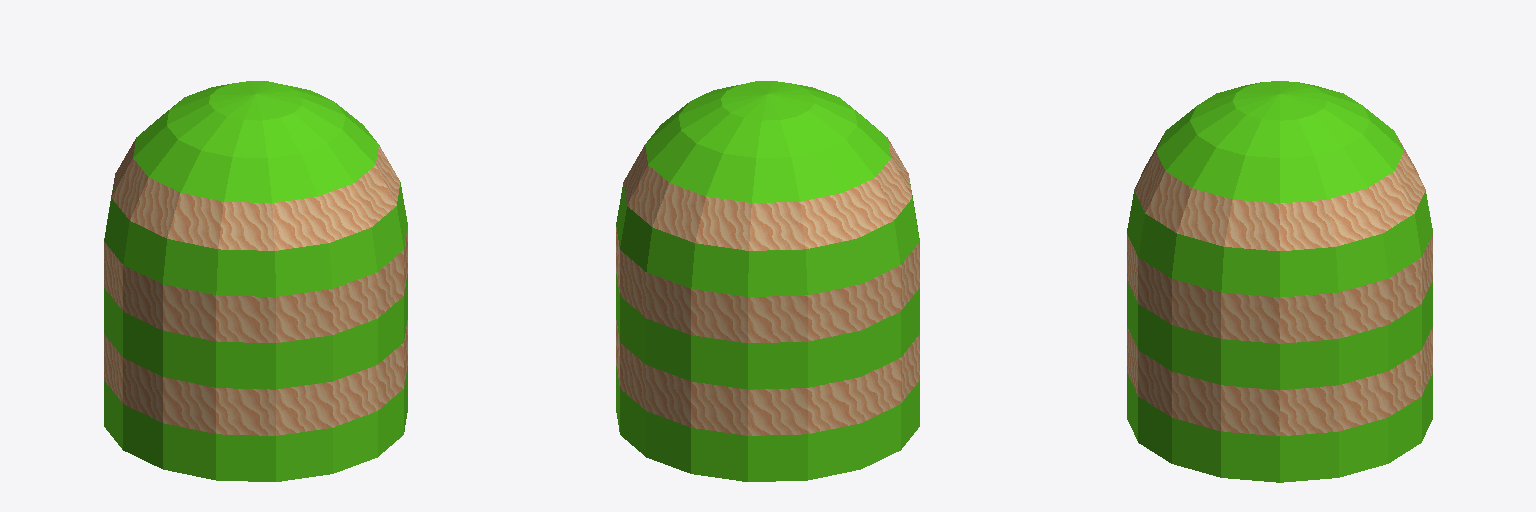
3 renders of one model, left to right at view 1: azimuth 30°, elevation 25°; view 2: azimuth 150°, elevation 25°; view 3: azimuth 270°, elevation 25°, orthographic.
Parts seen in each view (by area): view 1: Hill_Mat_1.001, Hill_Mat_2.001; view 2: Hill_Mat_1.001, Hill_Mat_2.001; view 3: Hill_Mat_1.001, Hill_Mat_2.001.
Boxes of the visible parts, <box> form: Hill_Mat_1.001: <box>104,81,407,481</box>; Hill_Mat_2.001: <box>104,139,407,435</box>; Hill_Mat_1.001: <box>616,81,919,481</box>; Hill_Mat_2.001: <box>616,139,919,435</box>; Hill_Mat_1.001: <box>1127,81,1432,482</box>; Hill_Mat_2.001: <box>1127,136,1432,435</box>.
Size of the model in its own units: 5 by 5.83 by 5.
Materials: 2 (1 with a texture image).